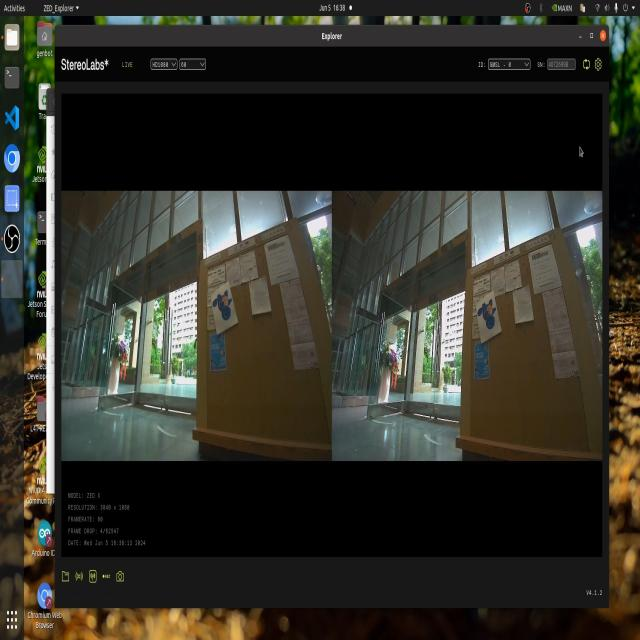blue: (202, 284, 240, 329), (476, 289, 506, 342)
